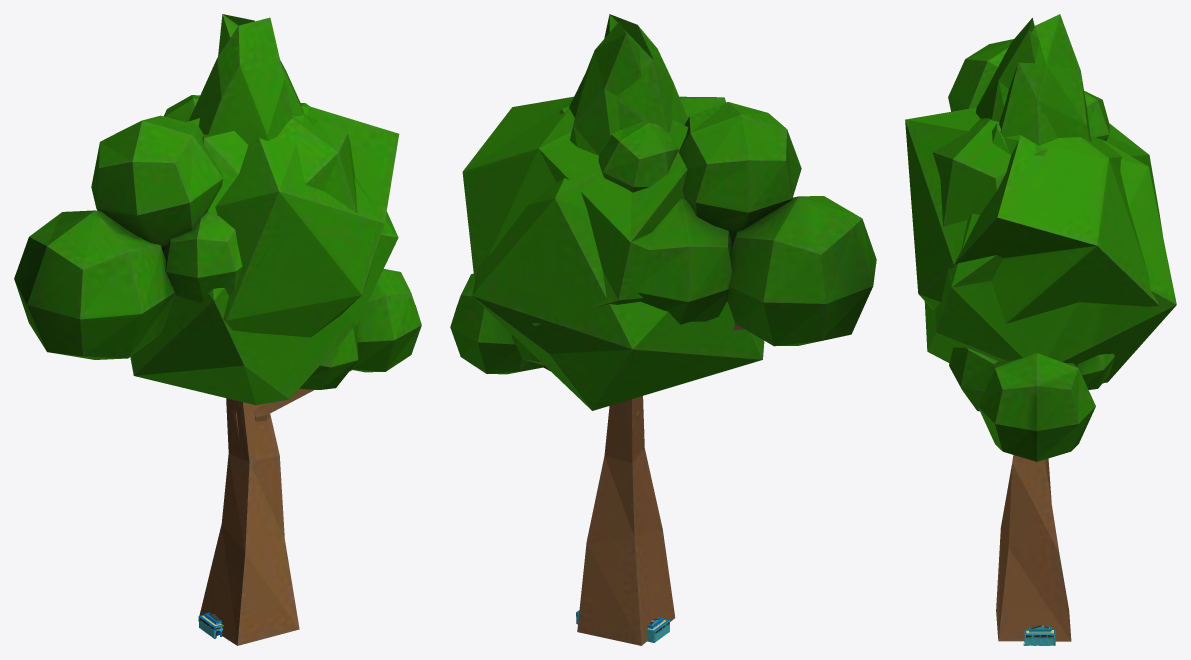
Rendered from scenery_lite.glb.
The picture shows the model from 3 angles, left to right: view 1: azimuth 30°, elevation 25°; view 2: azimuth 150°, elevation 25°; view 3: azimuth 270°, elevation 25°; orthographic projection.
Parts seen in each view (by area): view 1: tree_oak_a, tree_round_b, tree_round_a, tree_cypress_a, tree_oak_b, tree_cypress_b; view 2: tree_oak_a, tree_round_a, tree_round_b, tree_cypress_b, tree_cypress_a, tree_oak_b; view 3: tree_round_b, tree_oak_a, tree_round_a, tree_oak_b, tree_cypress_b, tree_cypress_a, bld_mall.
Part boxes in pixels (bbox=[...]): tree_oak_a: bbox=[14, 95, 357, 645]; tree_round_b: bbox=[187, 104, 399, 439]; tree_round_a: bbox=[130, 114, 398, 415]; tree_cypress_a: bbox=[189, 17, 292, 435]; tree_oak_b: bbox=[253, 269, 421, 421]; tree_cypress_b: bbox=[218, 14, 304, 419]; tree_oak_a: bbox=[559, 102, 876, 645]; tree_round_a: bbox=[472, 106, 764, 410]; tree_round_b: bbox=[462, 96, 727, 437]; tree_cypress_b: bbox=[569, 22, 641, 155]; tree_cypress_a: bbox=[604, 14, 687, 436]; tree_oak_b: bbox=[450, 273, 550, 374]; tree_round_b: bbox=[905, 107, 1162, 323]; tree_oak_a: bbox=[933, 39, 1109, 641]; tree_round_a: bbox=[924, 107, 1176, 383]; tree_oak_b: bbox=[949, 347, 1114, 461]; tree_cypress_b: bbox=[999, 14, 1091, 145]; tree_cypress_a: bbox=[976, 18, 1039, 121]; bld_mall: bbox=[1023, 625, 1055, 645].
Bounding box in the file's own units: 92.47 × 133 × 53.95.
3 materials, 3 textured.
